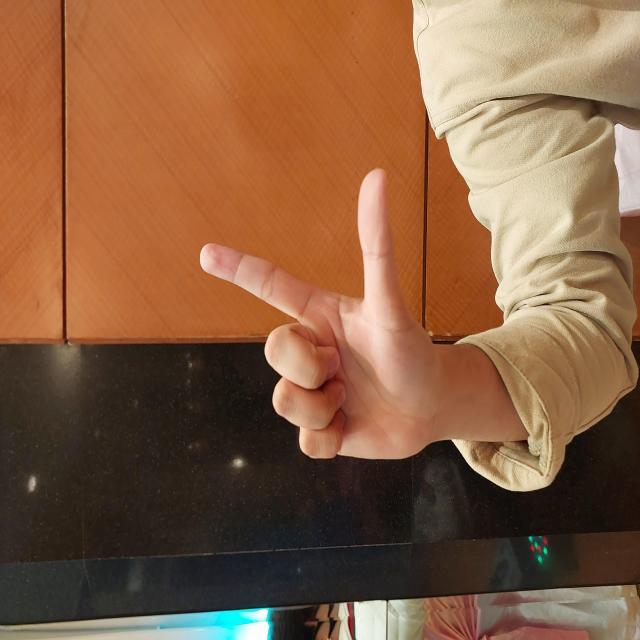L: (179, 198, 475, 433)
